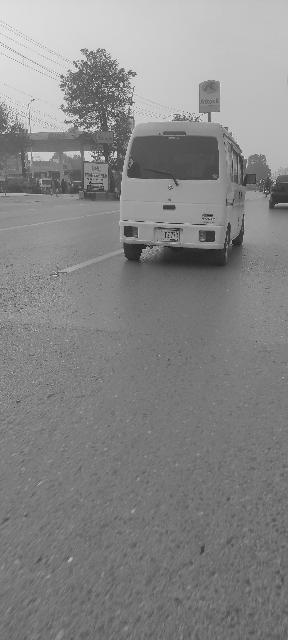Number: (164, 232, 180, 238)
